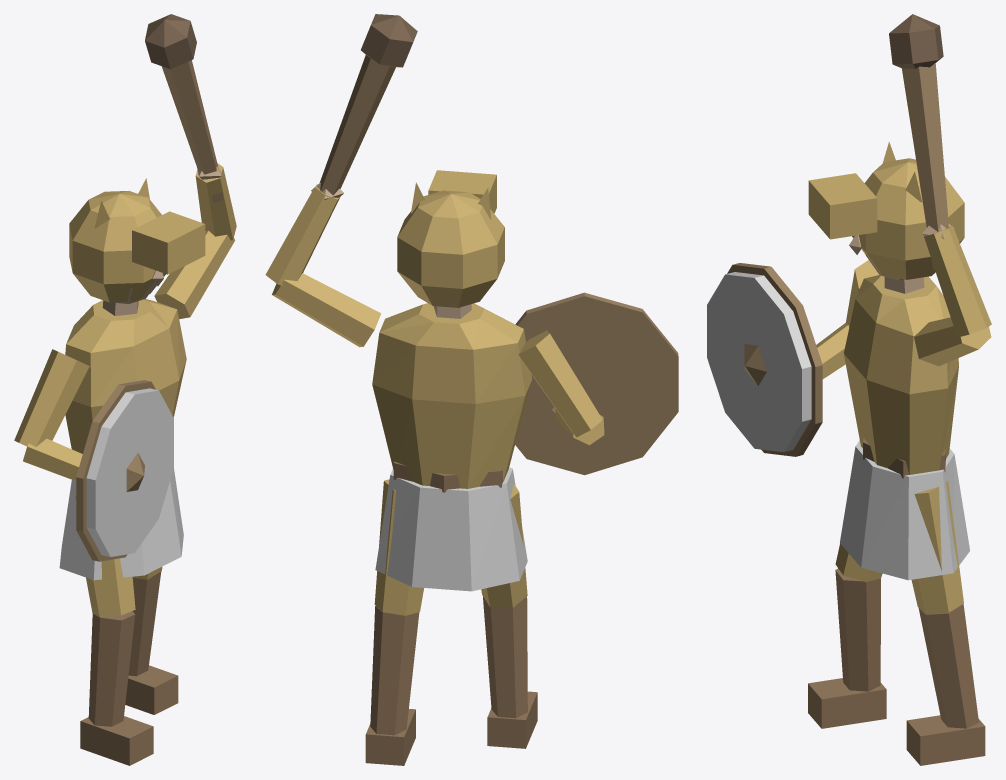
Rendered from jaguar.glb.
The picture shows the model from 3 angles, left to right: view 1: azimuth 30°, elevation 25°; view 2: azimuth 150°, elevation 25°; view 3: azimuth 270°, elevation 25°; orthographic projection. The views are drawn at different scales.
Parts seen in each view (by area): view 1: LOD0; view 2: LOD0; view 3: LOD0.
Boxes of the visible parts, bbox=[...] form: LOD0: bbox=[14, 14, 236, 765]; LOD0: bbox=[265, 14, 678, 765]; LOD0: bbox=[707, 14, 991, 765].
Size of what is drawn, in the model's own units: 0.547 by 1.3 by 0.4537.
